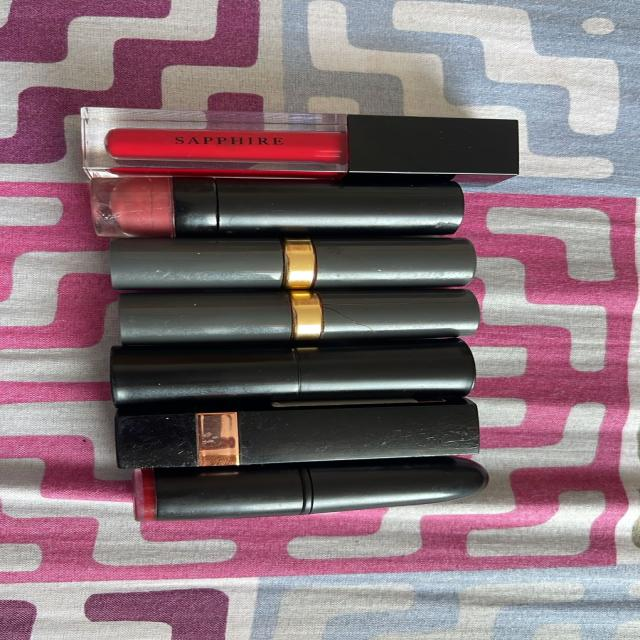lip gloss: (58, 92, 546, 183)
lip stick: (80, 169, 487, 243), (97, 231, 496, 300), (122, 458, 520, 526), (108, 398, 512, 464), (101, 338, 489, 398), (111, 293, 518, 340)
